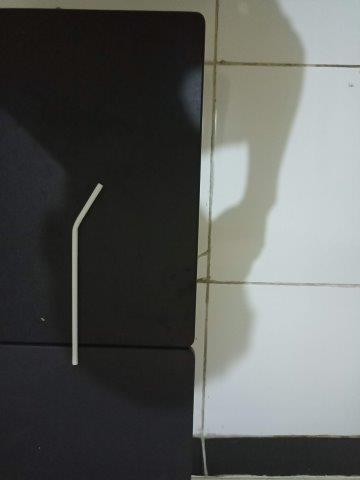sedotan: (72, 183, 103, 365)
